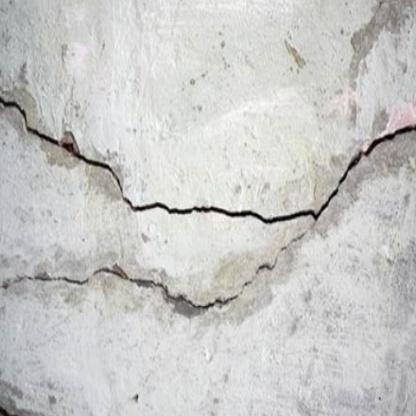Cracks: (0, 78, 416, 315), (0, 392, 45, 416)
